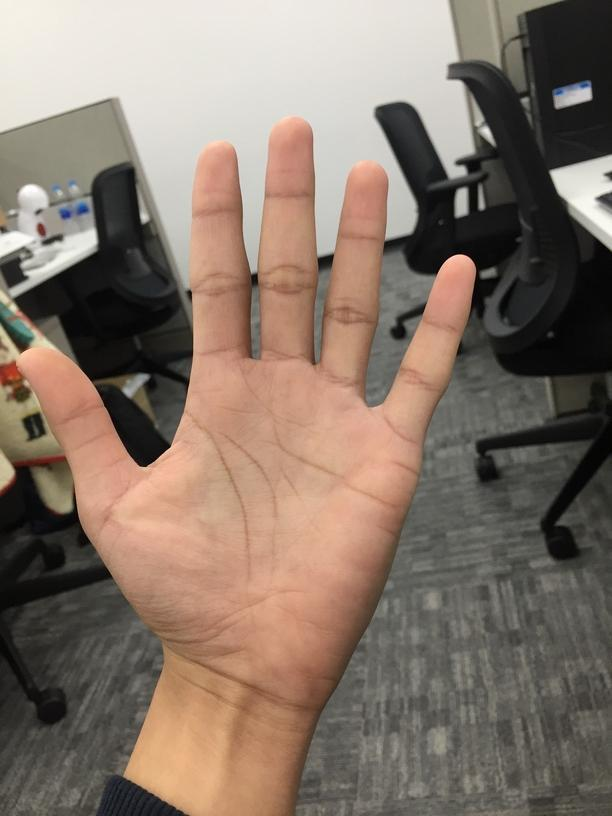hand: (19, 117, 475, 702)
